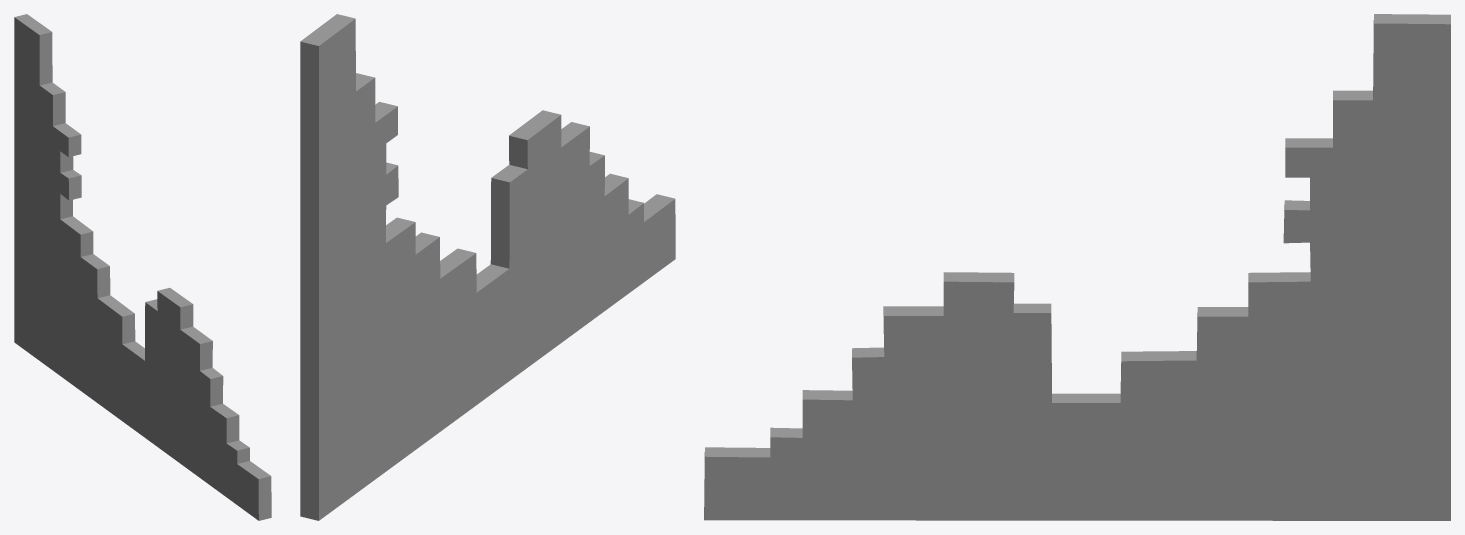
The model's file is wall_5.fbx.
The picture shows the model from 3 angles, left to right: view 1: azimuth 30°, elevation 25°; view 2: azimuth 150°, elevation 25°; view 3: azimuth 270°, elevation 25°; orthographic projection. The views are drawn at different scales.
Visible parts, largest first — view 1: Object.019; view 2: Object.019; view 3: Object.019.
Part boxes in pixels (bbox=[...]): Object.019: bbox=[14, 14, 271, 520]; Object.019: bbox=[300, 14, 675, 520]; Object.019: bbox=[704, 14, 1450, 520].
Size of the model in its own units: 60 by 1462 by 1989.
